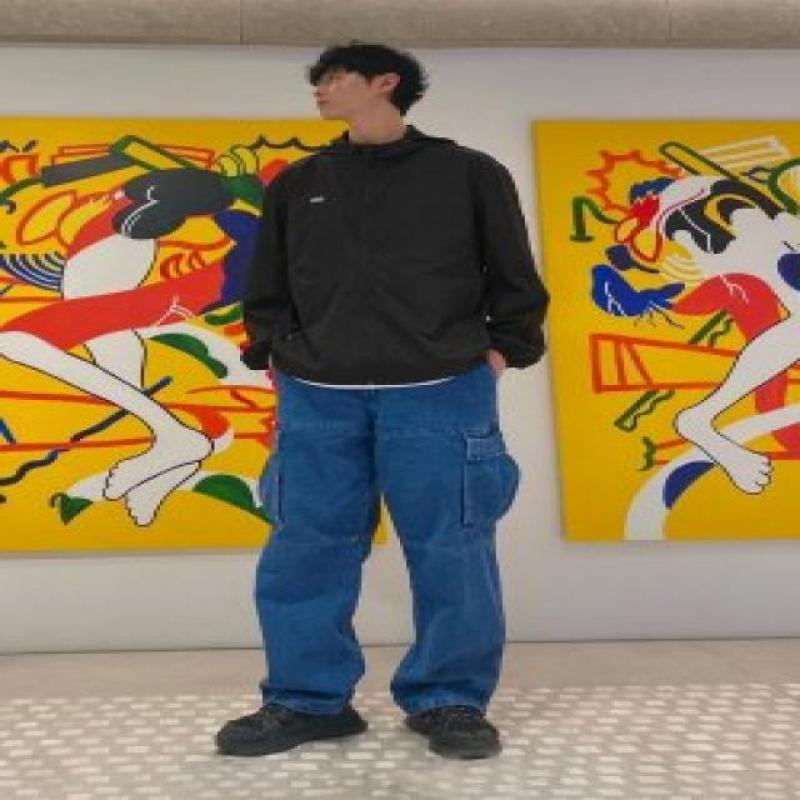jacket: (236, 126, 553, 385)
trousers: (250, 363, 523, 716)
